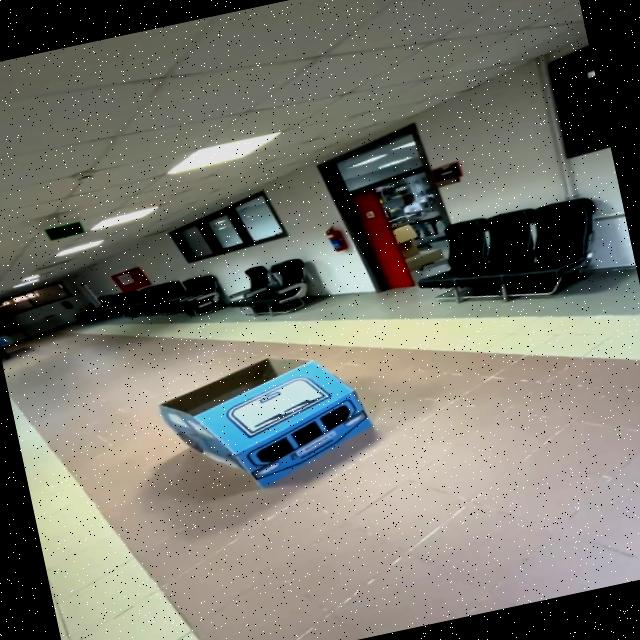blue_car: (111, 309, 435, 535)
